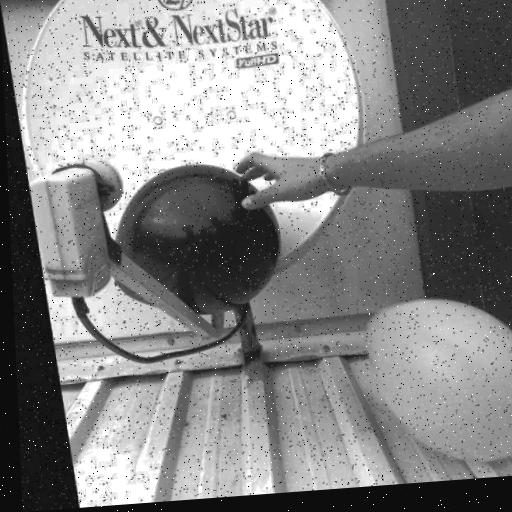balloon: (93, 158, 285, 323), (352, 290, 512, 470)
